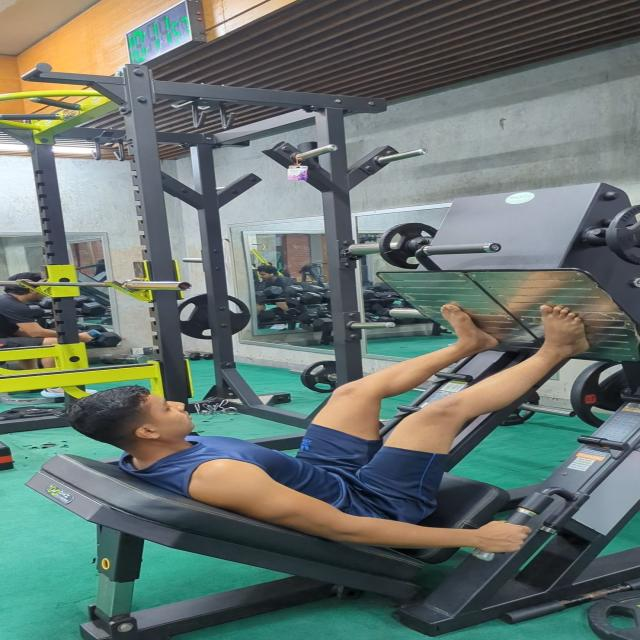Normal_LegPress: (54, 297, 610, 560)
